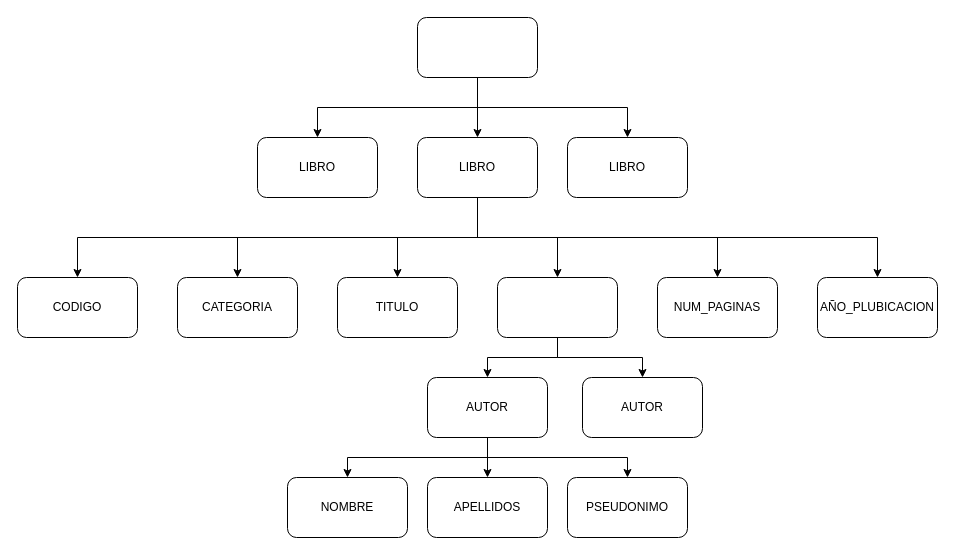
Some shapes in this 955 by 555 pixel diagram are drawn without their labels. Each missing label, with the box of its shape:
AUTORES: (496, 276, 618, 338)
LIBROS: (416, 16, 538, 78)
